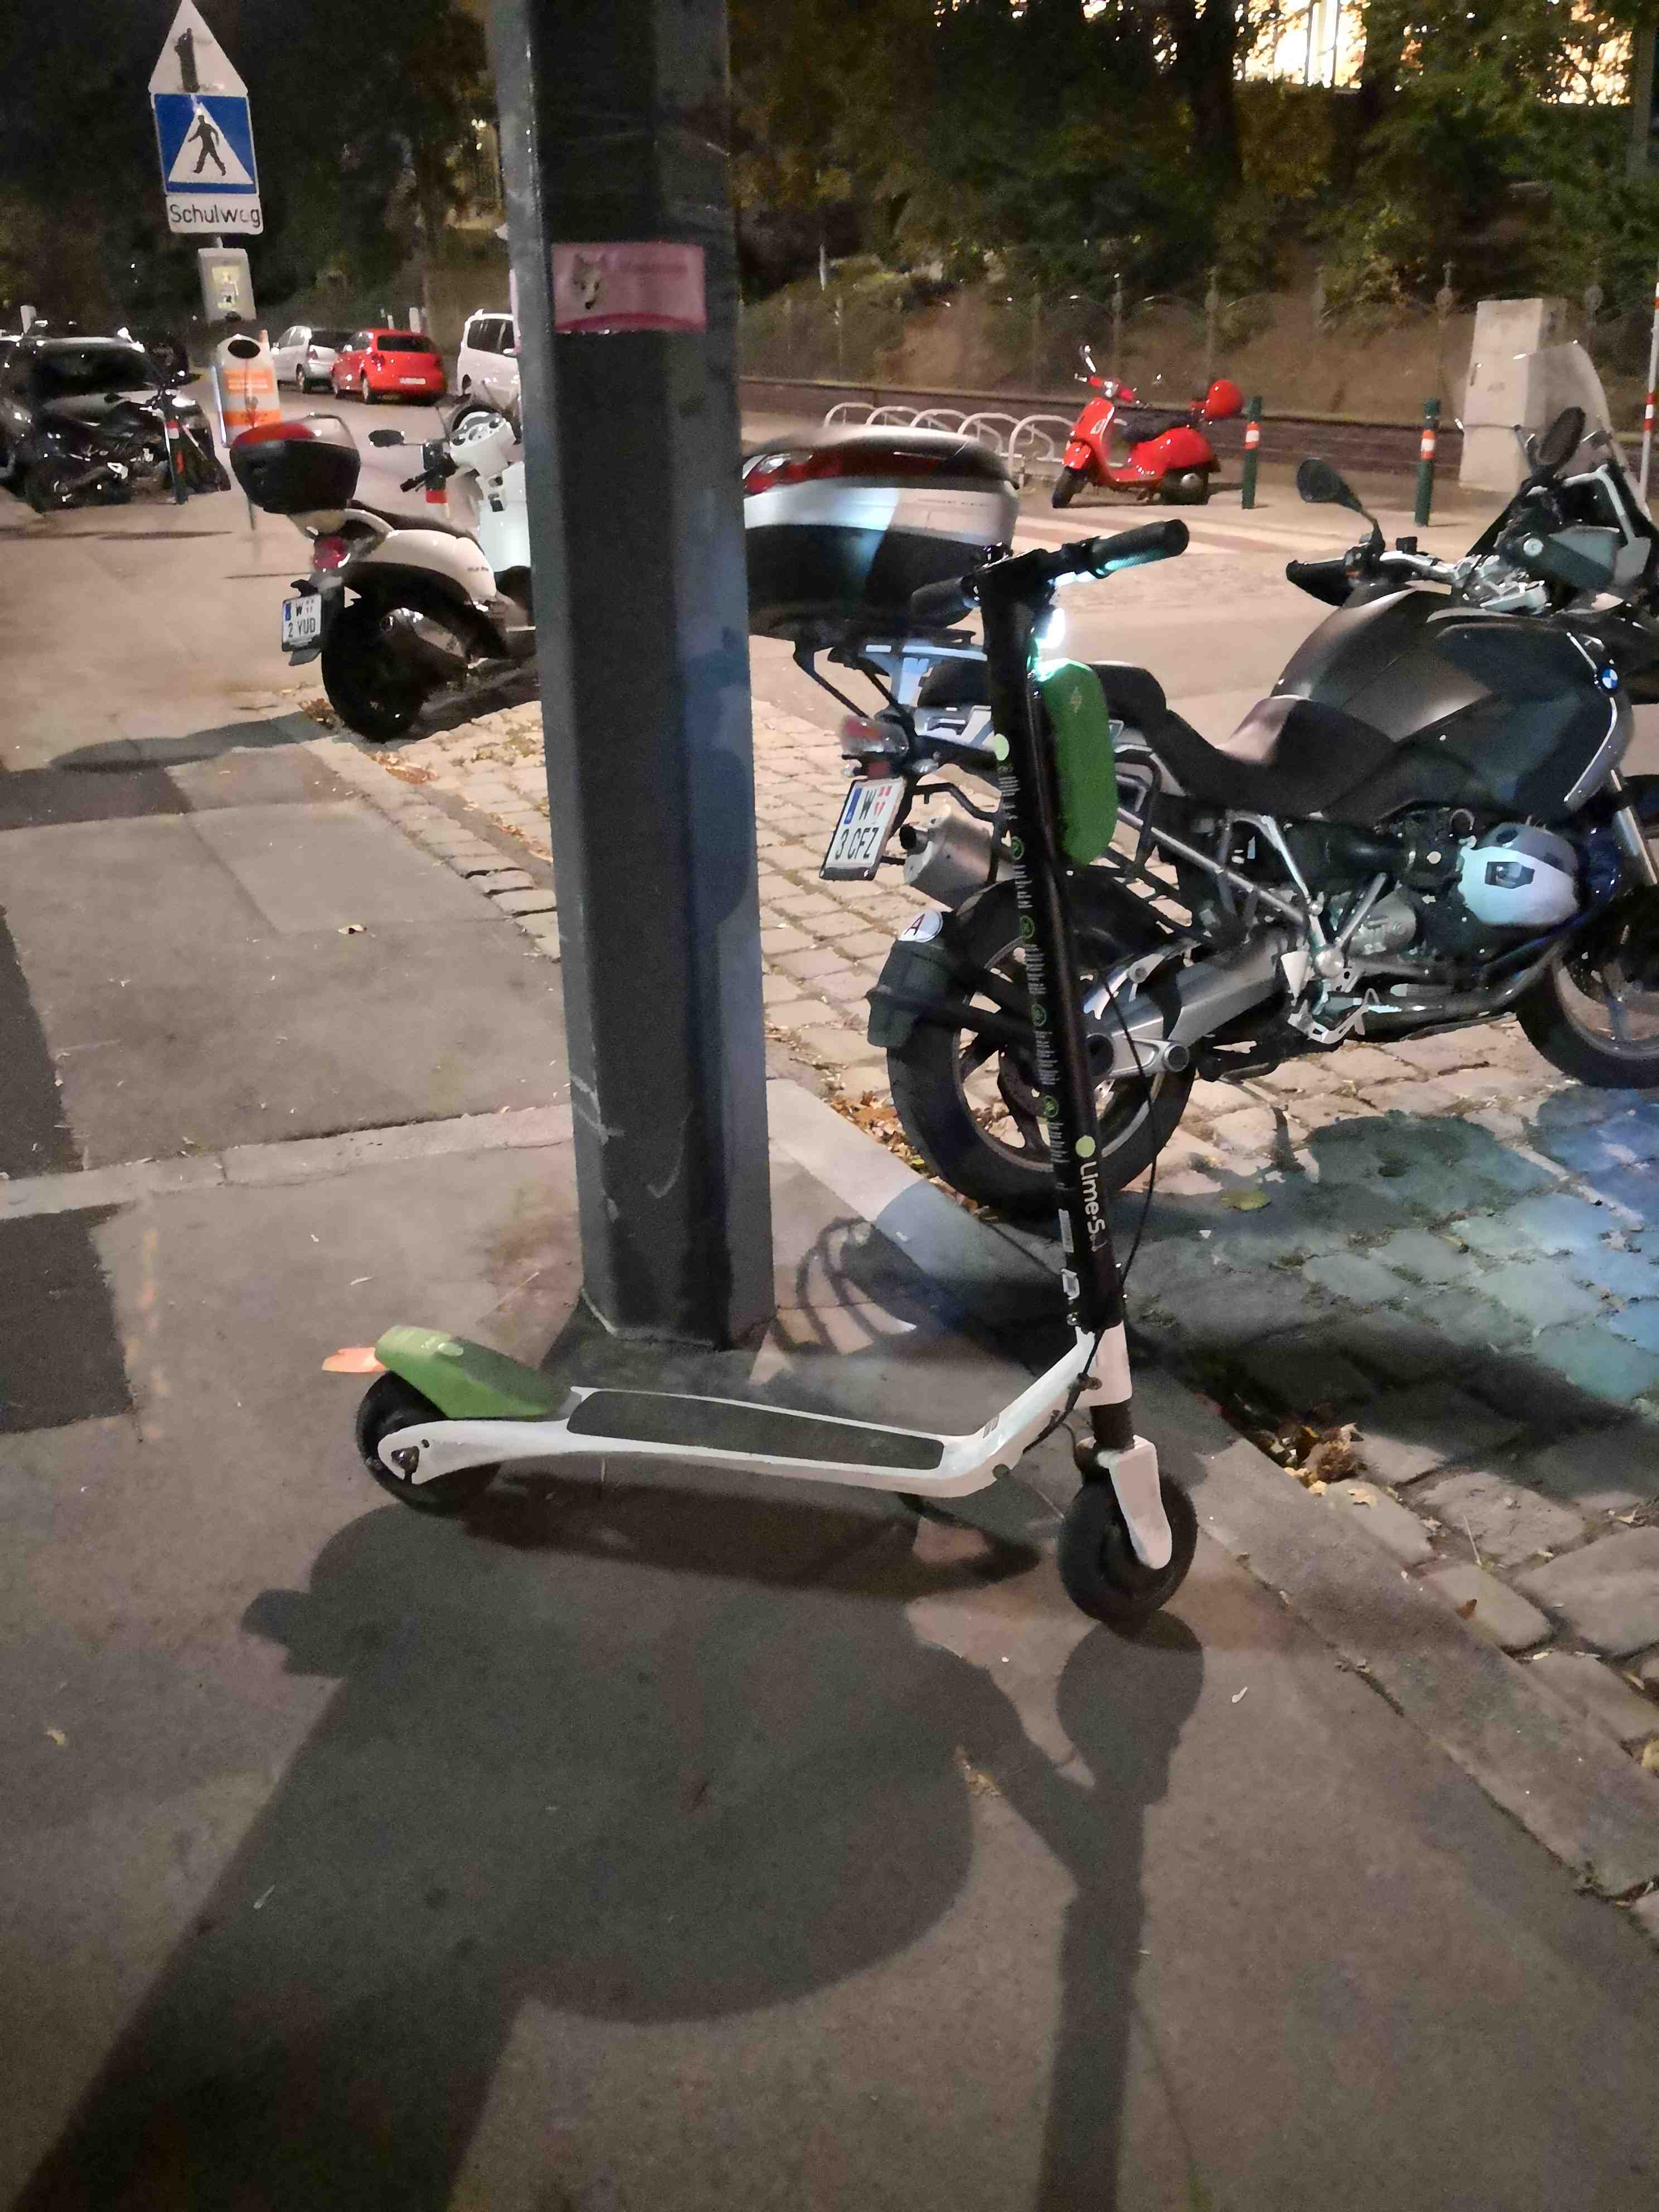scooter: (314, 502, 1248, 1637)
